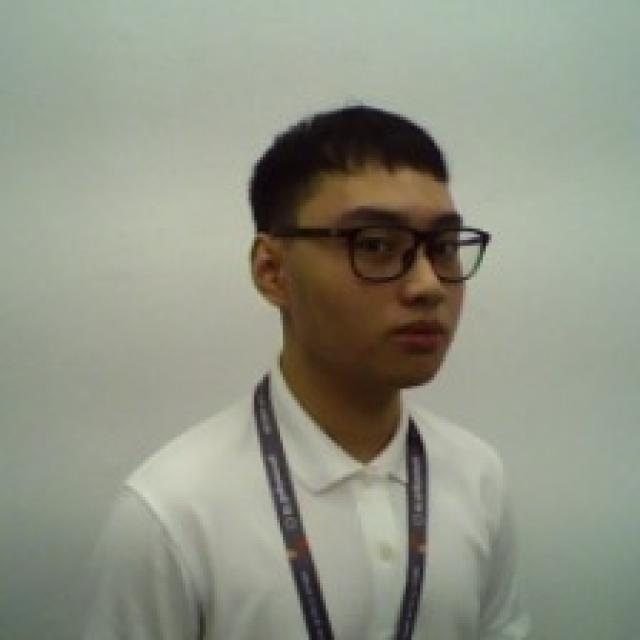no_gloves: (244, 105, 466, 228)
no_hairnet: (248, 237, 474, 393)
